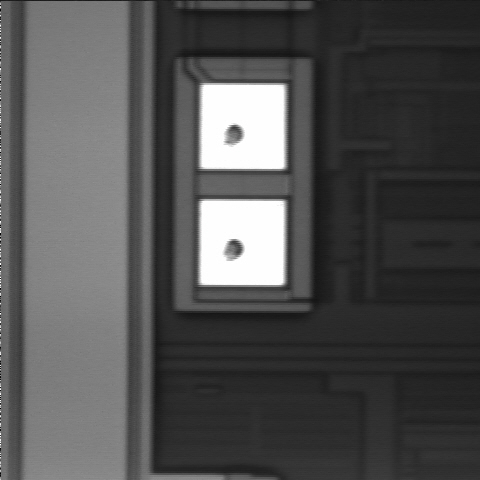pad: (200, 200, 285, 285), (201, 84, 285, 169)
